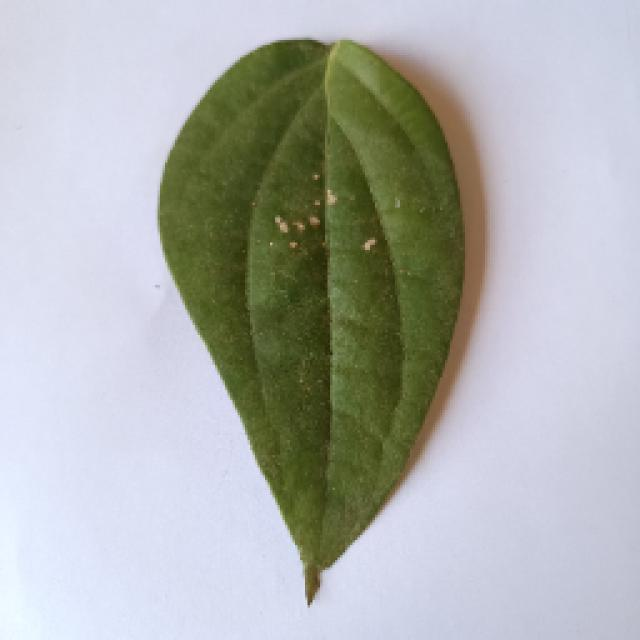pollu-disease: (152, 40, 460, 602)
